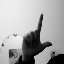l: (21, 13, 53, 53)
